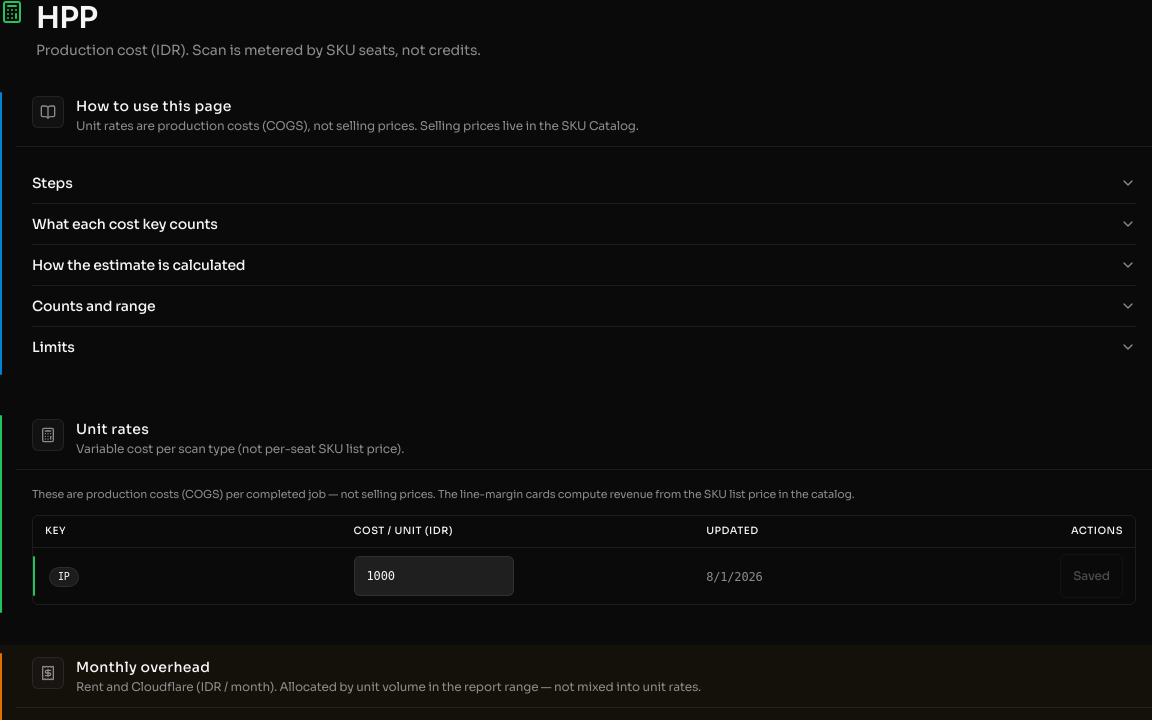
it: AdminHpp › renders a collapsible usage guide
Expected: the element with test id "hpp-guide" is shown, [0,84,1151,383]
Expected: the text "Enter the real per-unit cost (COGS) in the Unit rates card, then Save each key." is not shown
Click the button "Steps" at (52, 183), box [32,163,1136,203]
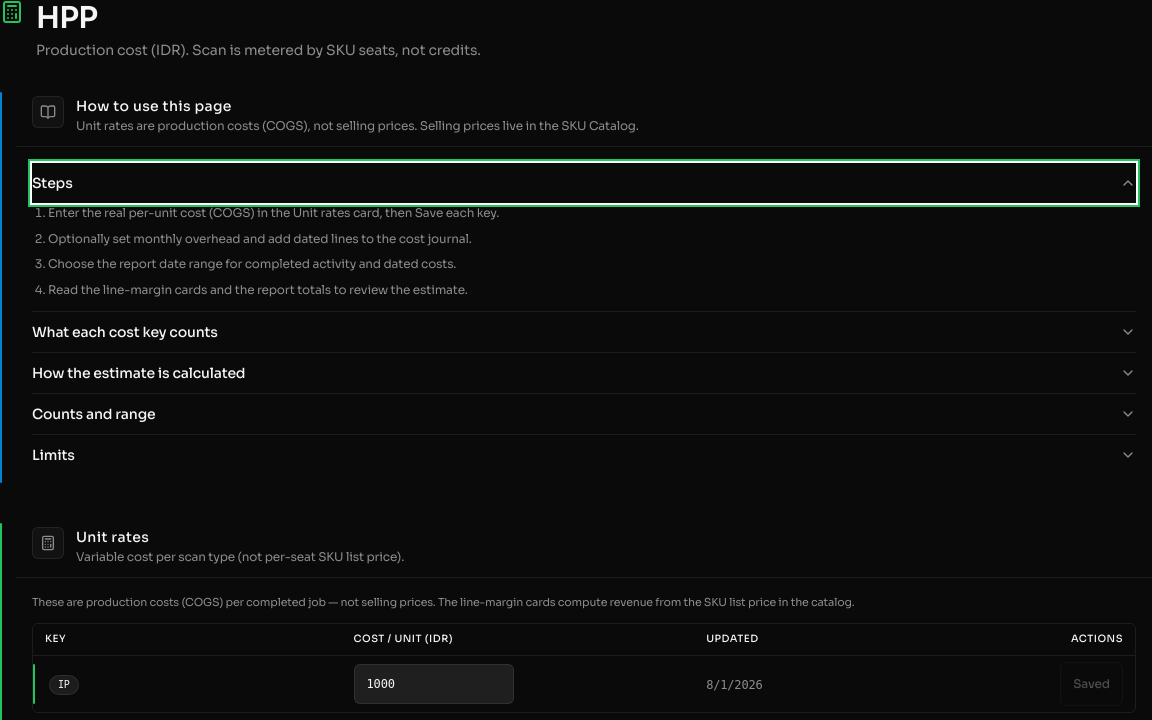
Now the list item "Enter the real per-unit cost (COGS) in the Unit rates card, then Save each key." is shown, box [48,205,499,220]
Click the button "Limits" at (53, 455), box [32,435,1136,475]
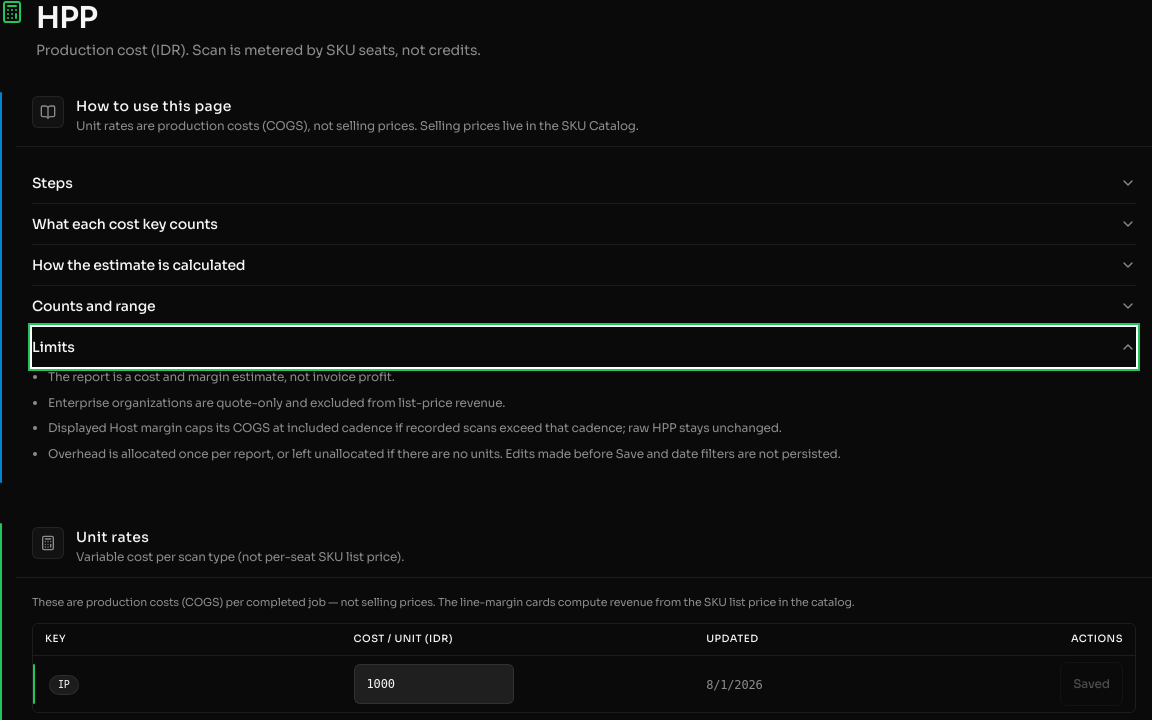
Now the list item "The report is a cost and margin estimate, not invoice profit." is shown, box [48,369,395,384]
